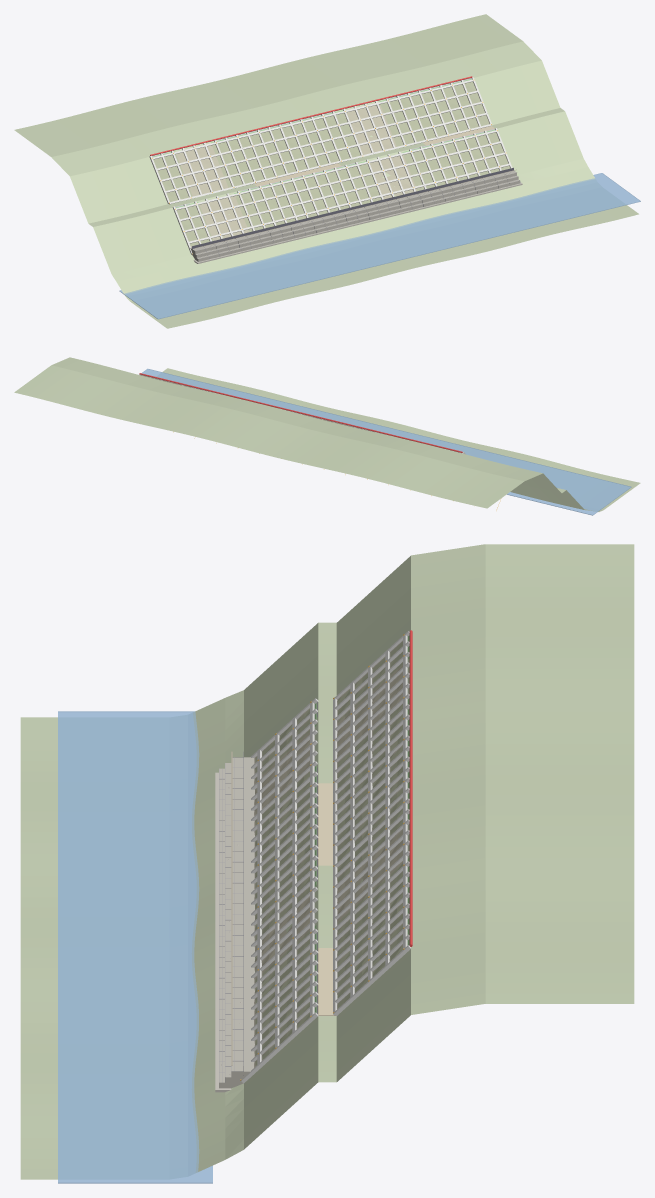
3 views of the same model, one above another, from view 1: azimuth 30°, elevation 25°; view 2: azimuth 150°, elevation 25°; view 3: azimuth 270°, elevation 25° (orthographic). The views are drawn at different scales.
Parts seen in each view (by area): view 1: 地形|現況地形 (参考), 地形|水面 (参考), 出来形|吹付面 出来形 (実測凹凸, 法面2 (H=6m)), 出来形|吹付面 出来形 (実測凹凸, 法面1 (H=6m)), 法枠工|吹付法枠工 b300×h300 @2.0m (法面2 (H=6m), 枠36本), 法面工|植生基材吹付 t=5cm 枠内 (法面2 (H=6m)), 法枠工|吹付法枠工 b300×h300 @2.0m (法面1 (H=6m), 枠36本), 法面工|植生基材吹付 t=5cm 枠内 (法面1 (H=6m)), かご工|ふとんかご 3段目 (2.0×1.0×0.5m を一体化), かご工|ふとんかご 1段目 (2.0×1.0×0.5m を一体化), かご工|ふとんかご 2段目 (2.0×1.0×0.5m を一体化), かご工|かご枠・金網 (φ4mm 亜鉛めっき, 代表表現) (+4 smaller); view 2: 地形|現況地形 (参考), 地形|水面 (参考), 線形|法面保護工 範囲 (法肩線・法尻線); view 3: 地形|現況地形 (参考), 地形|水面 (参考), 法枠工|吹付法枠工 b300×h300 @2.0m (法面2 (H=6m), 枠36本), 法枠工|吹付法枠工 b300×h300 @2.0m (法面1 (H=6m), 枠36本), 出来形|吹付面 出来形 (実測凹凸, 法面2 (H=6m)), 出来形|吹付面 出来形 (実測凹凸, 法面1 (H=6m)), かご工|ふとんかご 3段目 (2.0×1.0×0.5m を一体化), 法面工|植生基材吹付 t=5cm 枠内 (法面2 (H=6m)), 法面工|植生基材吹付 t=5cm 枠内 (法面1 (H=6m)), かご工|ふとんかご 2段目 (2.0×1.0×0.5m を一体化), 法面|小段 (幅1.5m), かご工|ふとんかご 1段目 (2.0×1.0×0.5m を一体化) (+3 smaller).
Part boxes in pixels (x1,y1,x2,y2): 地形|現況地形 (参考): (14, 14, 638, 328); 地形|水面 (参考): (119, 173, 640, 319); 出来形|吹付面 出来形 (実測凹凸, 法面2 (H=6m)): (153, 81, 489, 201); 出来形|吹付面 出来形 (実測凹凸, 法面1 (H=6m)): (176, 132, 510, 246); 法枠工|吹付法枠工 b300×h300 @2.0m (法面2 (H=6m), 枠36本): (149, 77, 491, 204); 法面工|植生基材吹付 t=5cm 枠内 (法面2 (H=6m)): (152, 79, 488, 201); 法枠工|吹付法枠工 b300×h300 @2.0m (法面1 (H=6m), 枠36本): (172, 128, 512, 254); 法面工|植生基材吹付 t=5cm 枠内 (法面1 (H=6m)): (175, 130, 509, 245); かご工|ふとんかご 3段目 (2.0×1.0×0.5m を一体化): (190, 171, 516, 253); かご工|ふとんかご 1段目 (2.0×1.0×0.5m を一体化): (192, 179, 519, 261); かご工|ふとんかご 2段目 (2.0×1.0×0.5m を一体化): (192, 175, 518, 257); かご工|かご枠・金網 (φ4mm 亜鉛めっき, 代表表現): (192, 171, 520, 261); 地形|現況地形 (参考): (14, 357, 640, 511); 地形|水面 (参考): (141, 368, 631, 515); 線形|法面保護工 範囲 (法肩線・法尻線): (139, 373, 462, 452); 地形|現況地形 (参考): (20, 544, 634, 1179); 地形|水面 (参考): (58, 711, 212, 1183); 法枠工|吹付法枠工 b300×h300 @2.0m (法面2 (H=6m), 枠36本): (333, 631, 410, 1015); 法枠工|吹付法枠工 b300×h300 @2.0m (法面1 (H=6m), 枠36本): (241, 698, 318, 1083); 出来形|吹付面 出来形 (実測凹凸, 法面2 (H=6m)): (337, 640, 402, 1009); 出来形|吹付面 出来形 (実測凹凸, 法面1 (H=6m)): (254, 708, 309, 1067); かご工|ふとんかご 3段目 (2.0×1.0×0.5m を一体化): (231, 757, 254, 1077); 法面工|植生基材吹付 t=5cm 枠内 (法面2 (H=6m)): (338, 636, 409, 1007); 法面工|植生基材吹付 t=5cm 枠内 (法面1 (H=6m)): (255, 703, 316, 1065); かご工|ふとんかご 2段目 (2.0×1.0×0.5m を一体化): (225, 763, 243, 1082); 法面|小段 (幅1.5m): (318, 783, 335, 1015); かご工|ふとんかご 1段目 (2.0×1.0×0.5m を一体化): (219, 768, 243, 1088).
Size of the model in its own units: 90 by 15.83 by 49.5.
